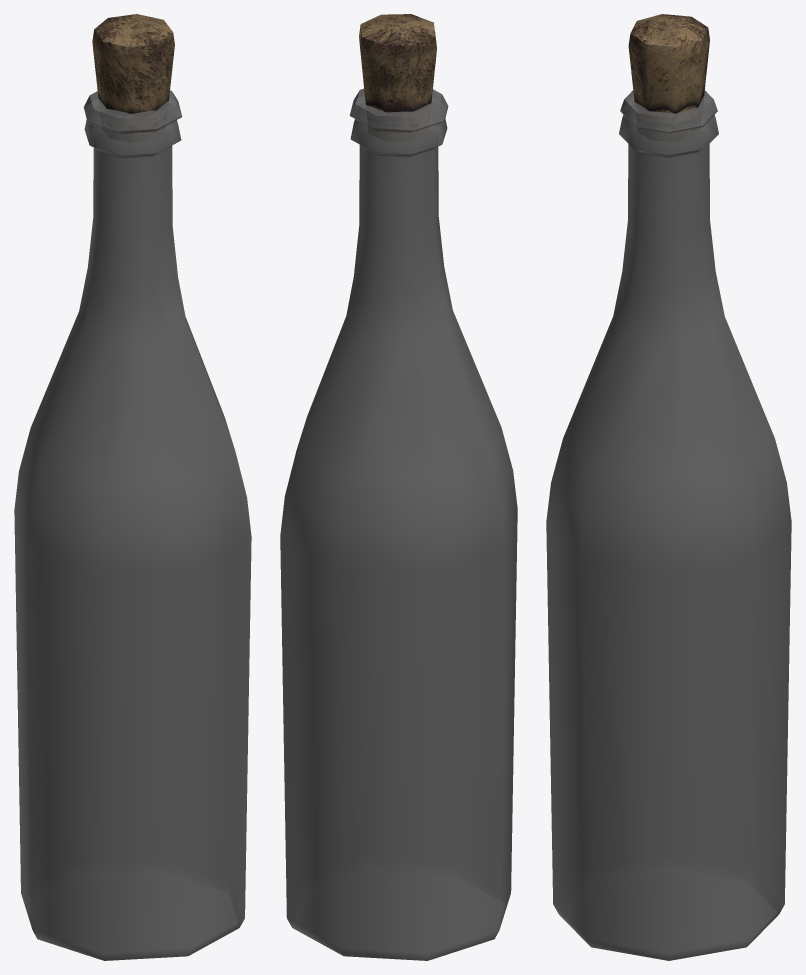
The model's file is Bottle1_blend.obj.
The picture shows the model from 3 angles, left to right: view 1: azimuth 30°, elevation 25°; view 2: azimuth 150°, elevation 25°; view 3: azimuth 270°, elevation 25°; orthographic projection.
Parts seen in each view (by area): view 1: polySurface1_Untitled, polySurface2_Untitled.001; view 2: polySurface1_Untitled, polySurface2_Untitled.001; view 3: polySurface1_Untitled, polySurface2_Untitled.001.
Part boxes in pixels (x1,y1,x2,y2): polySurface1_Untitled: (14,90,251,960); polySurface2_Untitled.001: (92,14,174,142); polySurface1_Untitled: (280,88,517,960); polySurface2_Untitled.001: (359,14,436,140); polySurface1_Untitled: (546,90,791,960); polySurface2_Untitled.001: (628,14,709,141).
Bounding box in the file's own units: 0.0212 × 0.0851 × 0.0212.
Materials: 2 (1 with a texture image).
